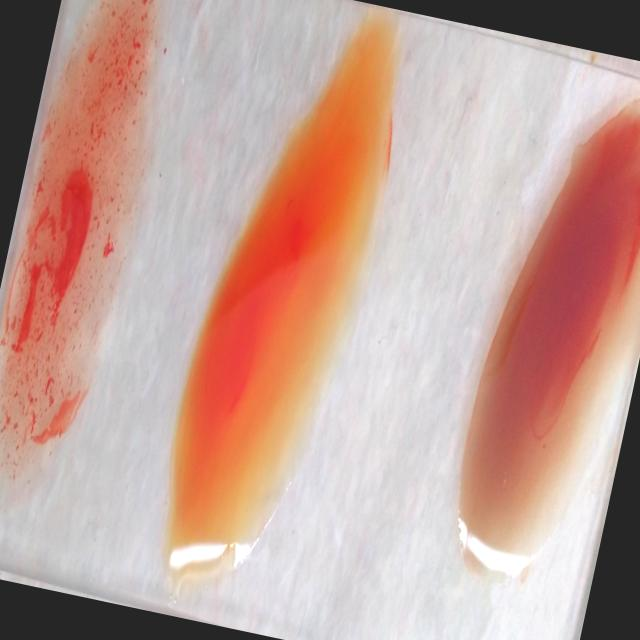D: (0, 0, 179, 508)
